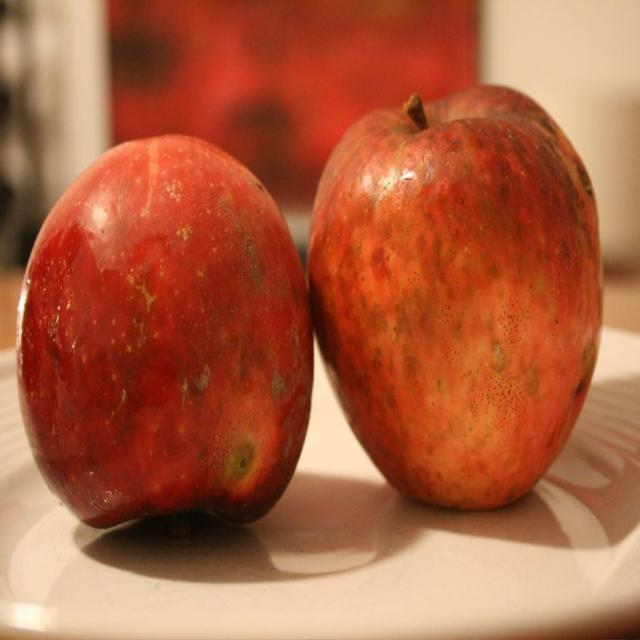Apple: (306, 84, 604, 512), (14, 132, 314, 530)
